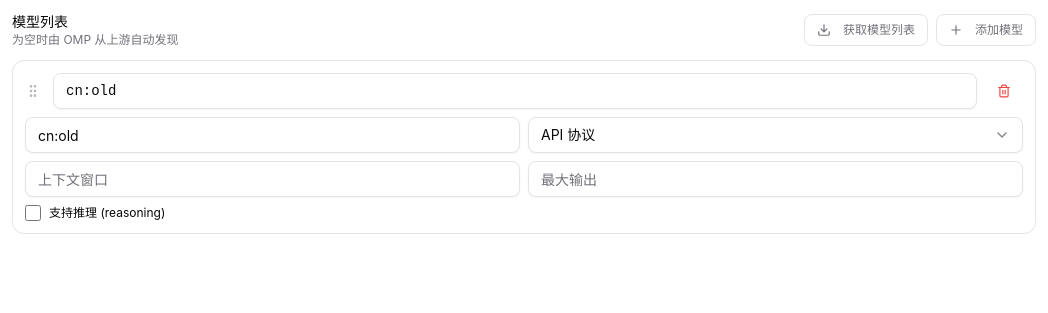
Test: OmpModelListEditor 获取模型列表 › 上游不可用时回落到 OMP 原生目录
This screenshot has width=1048, height=313.
Step 1. Click the button "获取模型列表" → (866, 30), box [804,14,928,46]
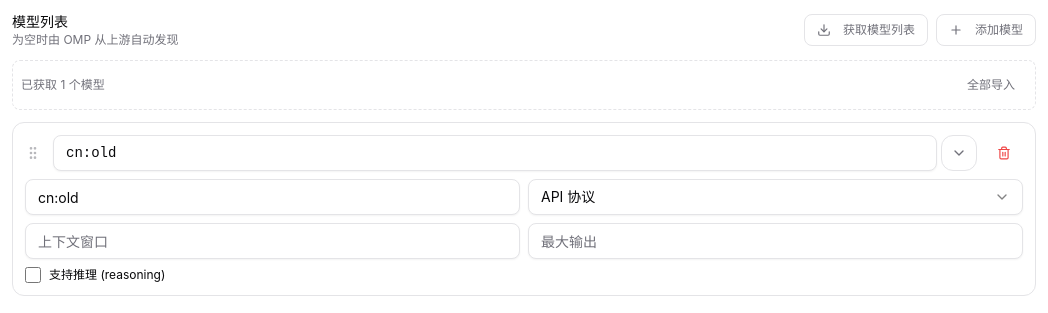
Expected: the text "已获取 1 个模型" is shown, [21,77,105,93]
